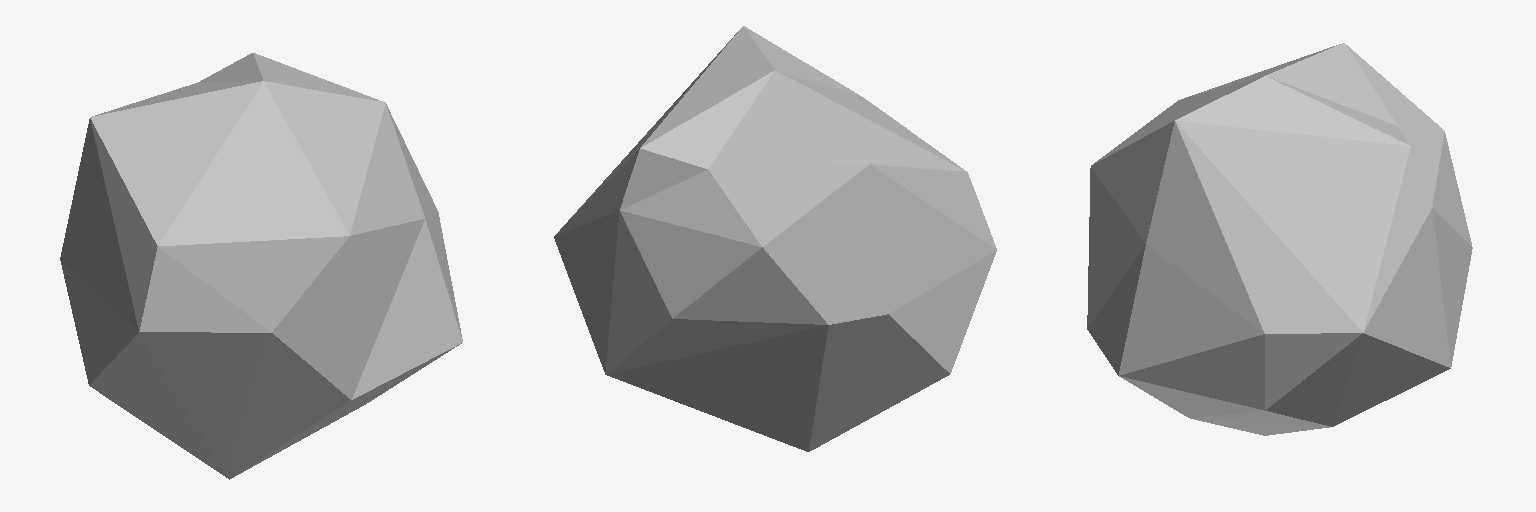
File: asteroid.obj
3 renders of one model, left to right at view 1: azimuth 30°, elevation 25°; view 2: azimuth 150°, elevation 25°; view 3: azimuth 270°, elevation 25°, orthographic.
Visible parts, largest first — view 1: asteroid_model; view 2: asteroid_model; view 3: asteroid_model.
Boxes of the visible parts, box(x1,y1,x2,y2) form: asteroid_model: box(60, 53, 462, 479); asteroid_model: box(554, 26, 996, 451); asteroid_model: box(1087, 43, 1472, 435).
Size of the model in its own units: 191 by 188 by 182.